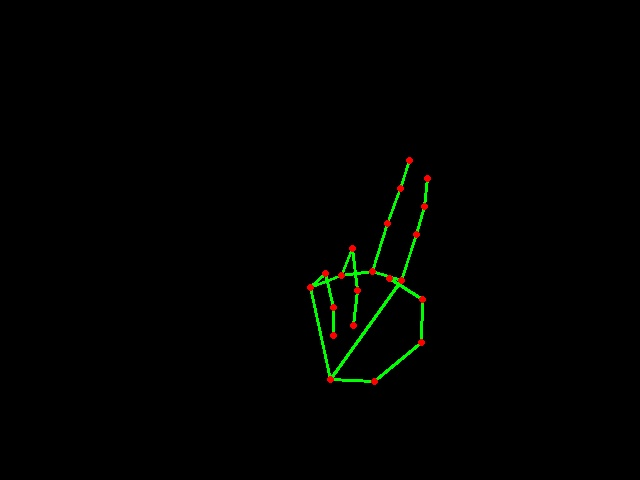forward: (298, 144, 450, 390)
